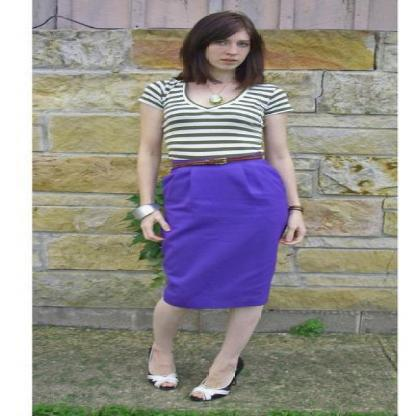shirt: (138, 80, 290, 160)
shoe: (149, 358, 243, 387)
skirt: (160, 158, 292, 308)
